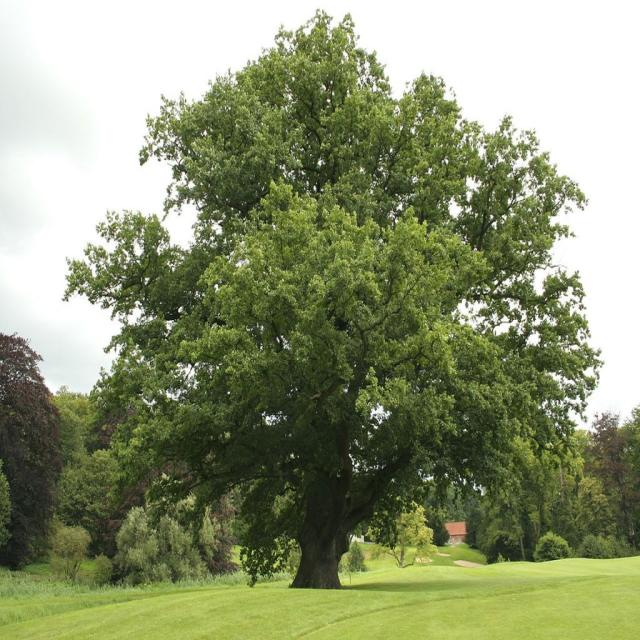roble: (66, 34, 595, 588)
